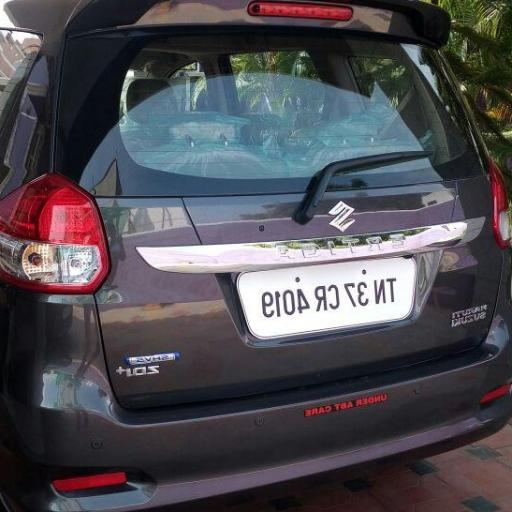License: (250, 264, 411, 325)
